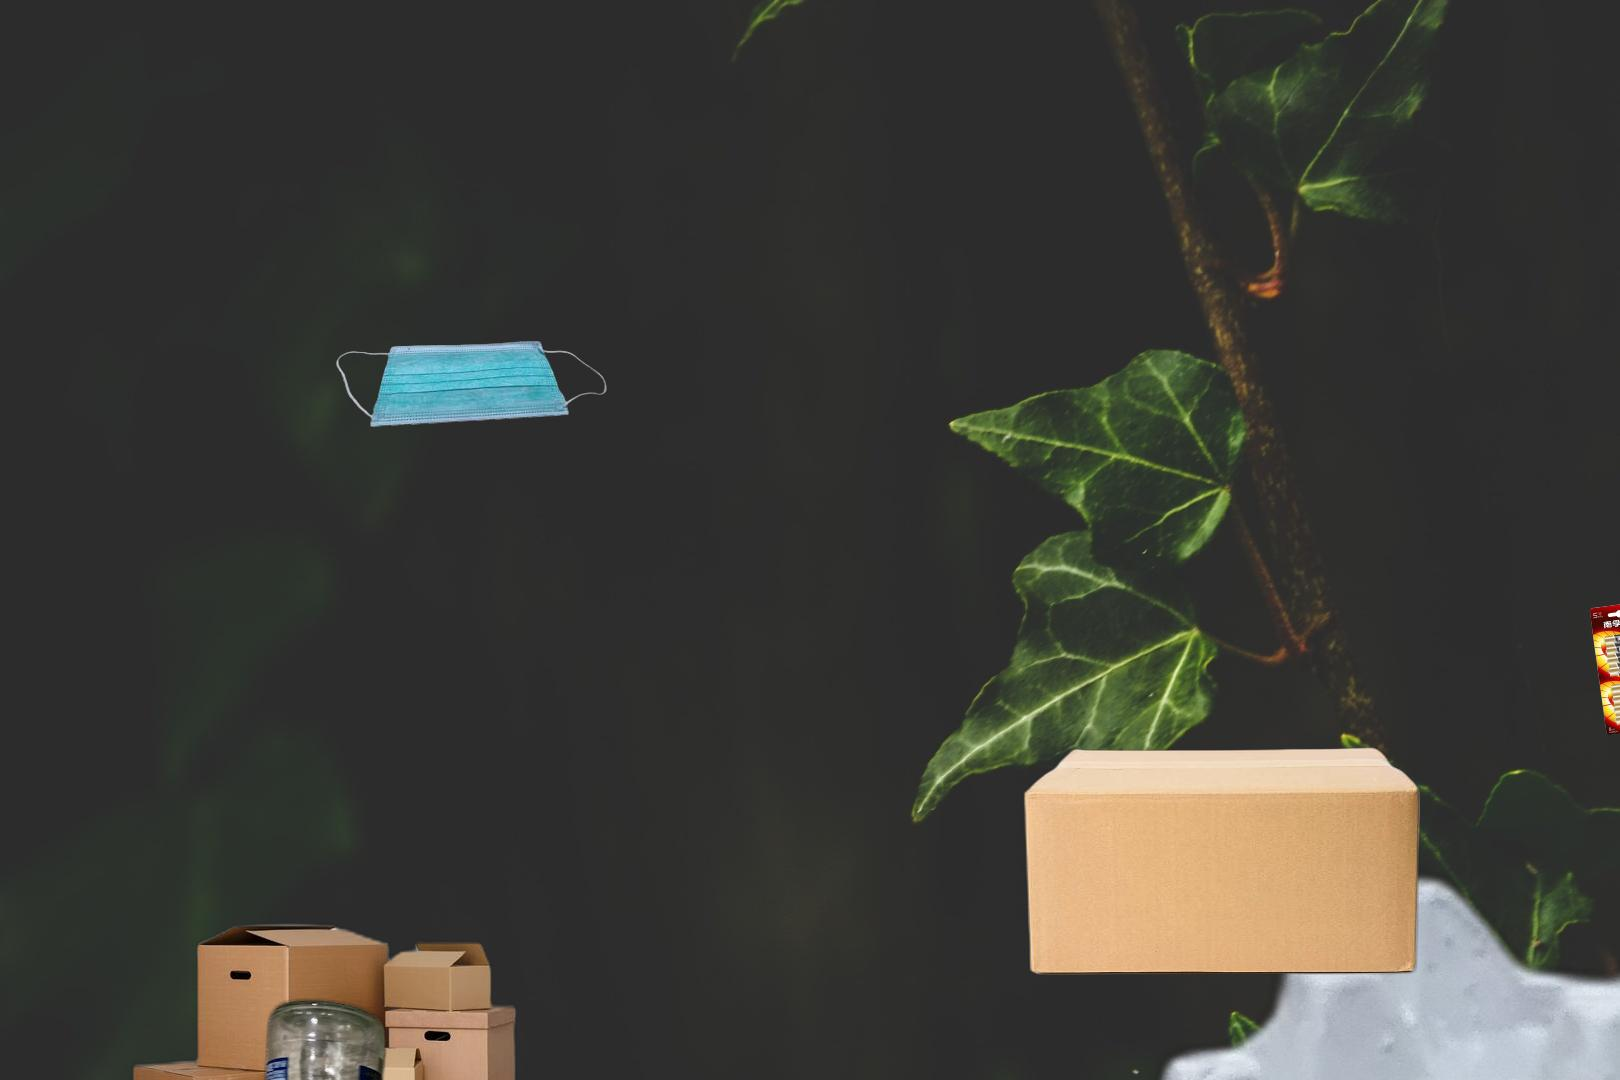battery: (1587, 598, 1620, 739)
glass: (243, 994, 391, 1080)
trash: (333, 337, 610, 430)
trashbox-cardboard: (322, 849, 1620, 1080), (1019, 745, 1426, 979), (127, 917, 585, 1080)
